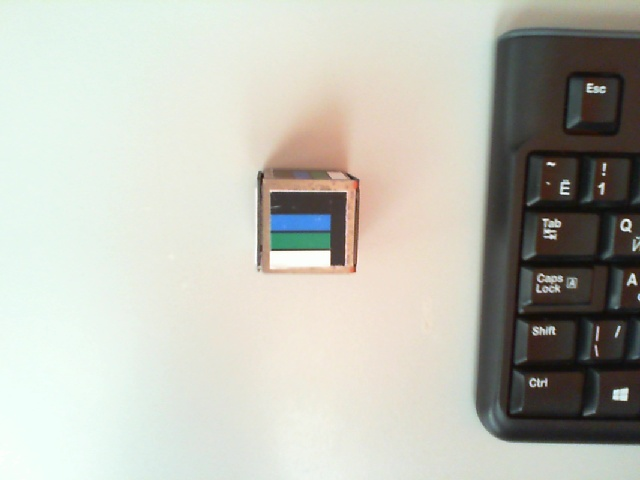square: (269, 190, 345, 266)
